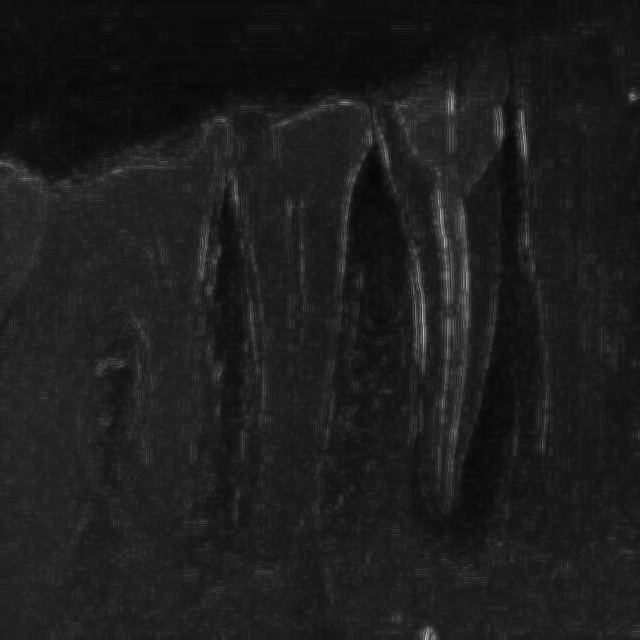Class 0- No endodontic treatment: (340, 42, 550, 590)
cavity: (191, 57, 402, 608)
